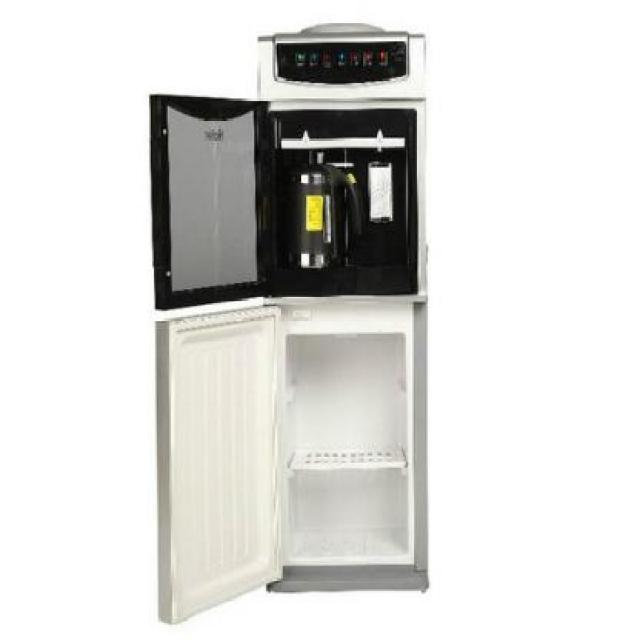cooler: (146, 20, 431, 632)
